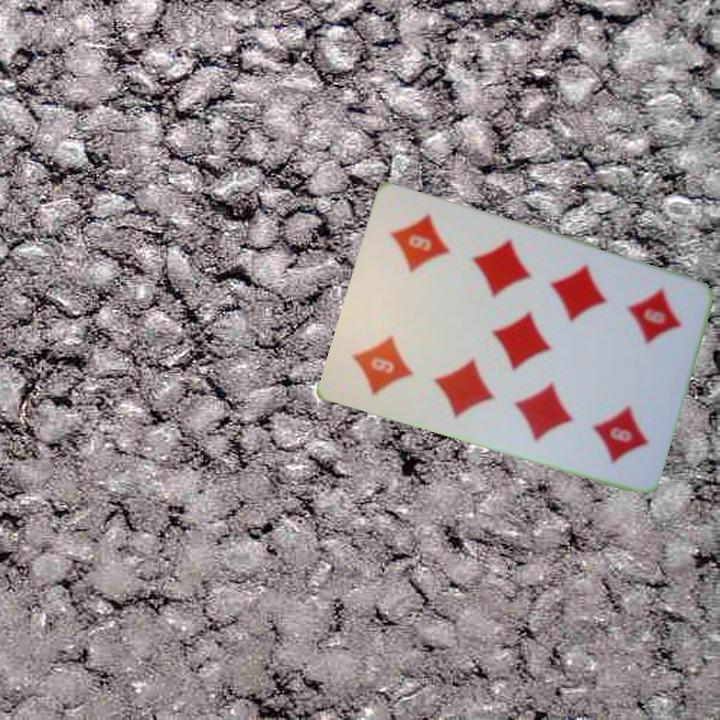d_9.png: (589, 268, 699, 387), (336, 290, 446, 409)
